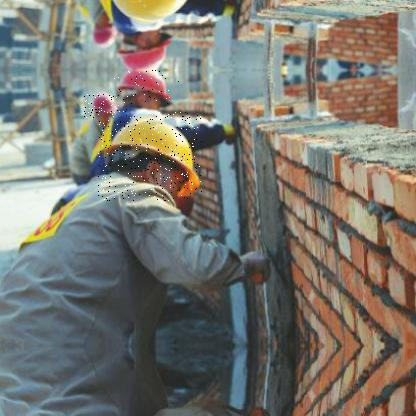safetyhelmet: (98, 112, 203, 202), (114, 69, 180, 106), (84, 94, 128, 120)
